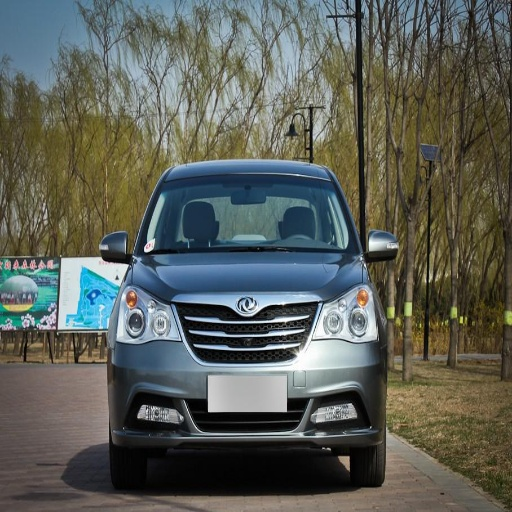front_bumper: (108, 293, 384, 452)
front_right_light: (119, 285, 178, 340)
hood: (135, 252, 364, 301)
